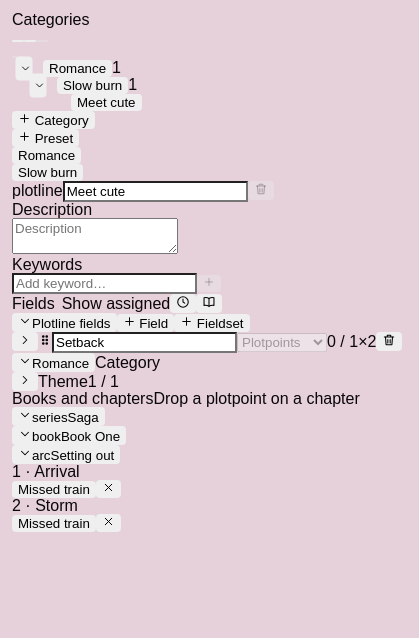
Test case: placing a value many times › counts the placements on the value card and, added up, on the field's heading, and a placed value stays in its field
This screenshot has width=419, height=638.
Click the button named "Expand Setback" at (25,342), box [12,332,38,351]
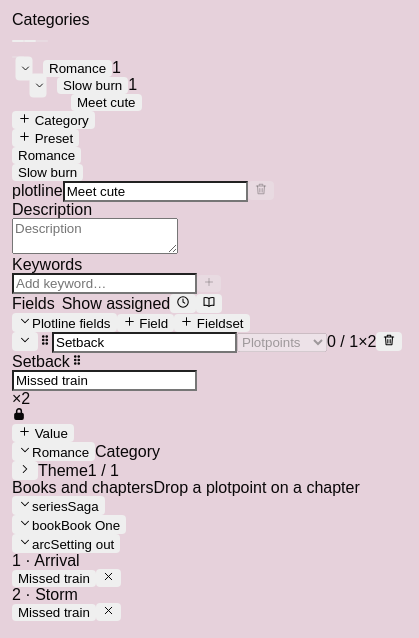
Expected: the text with class "wrFieldCount" reads "0 / 1", [327,333,358,350]
Result: the text named "Placed 2 times" reads "×2" at [12,390,30,407]
